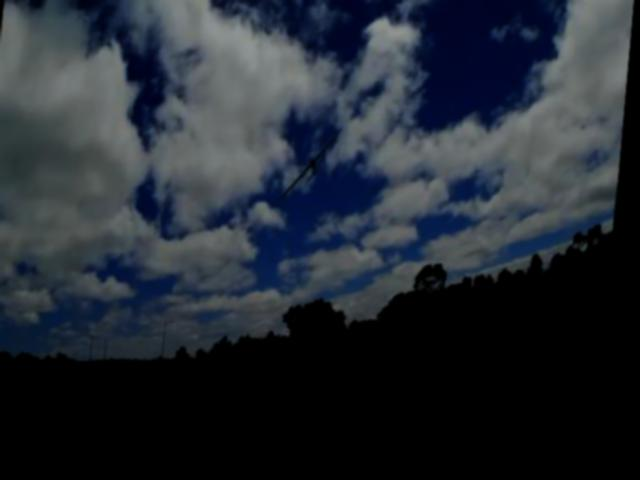uav: (276, 126, 356, 213)
